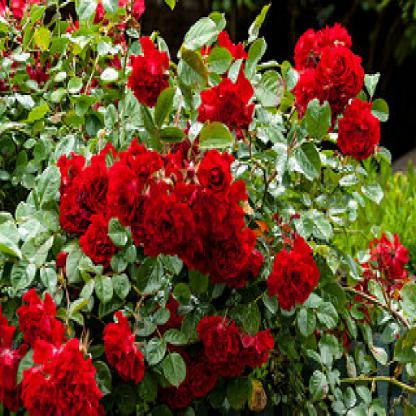ROSE-MAWAR: (56, 144, 266, 279)
